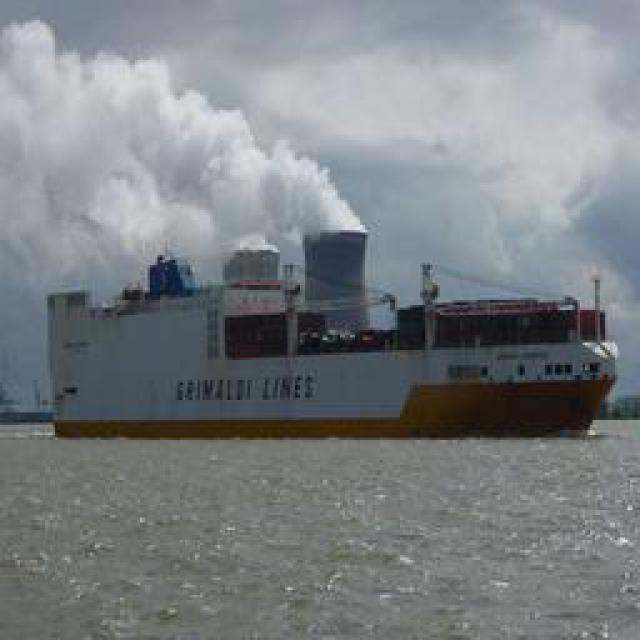Ship: (22, 231, 620, 441)
